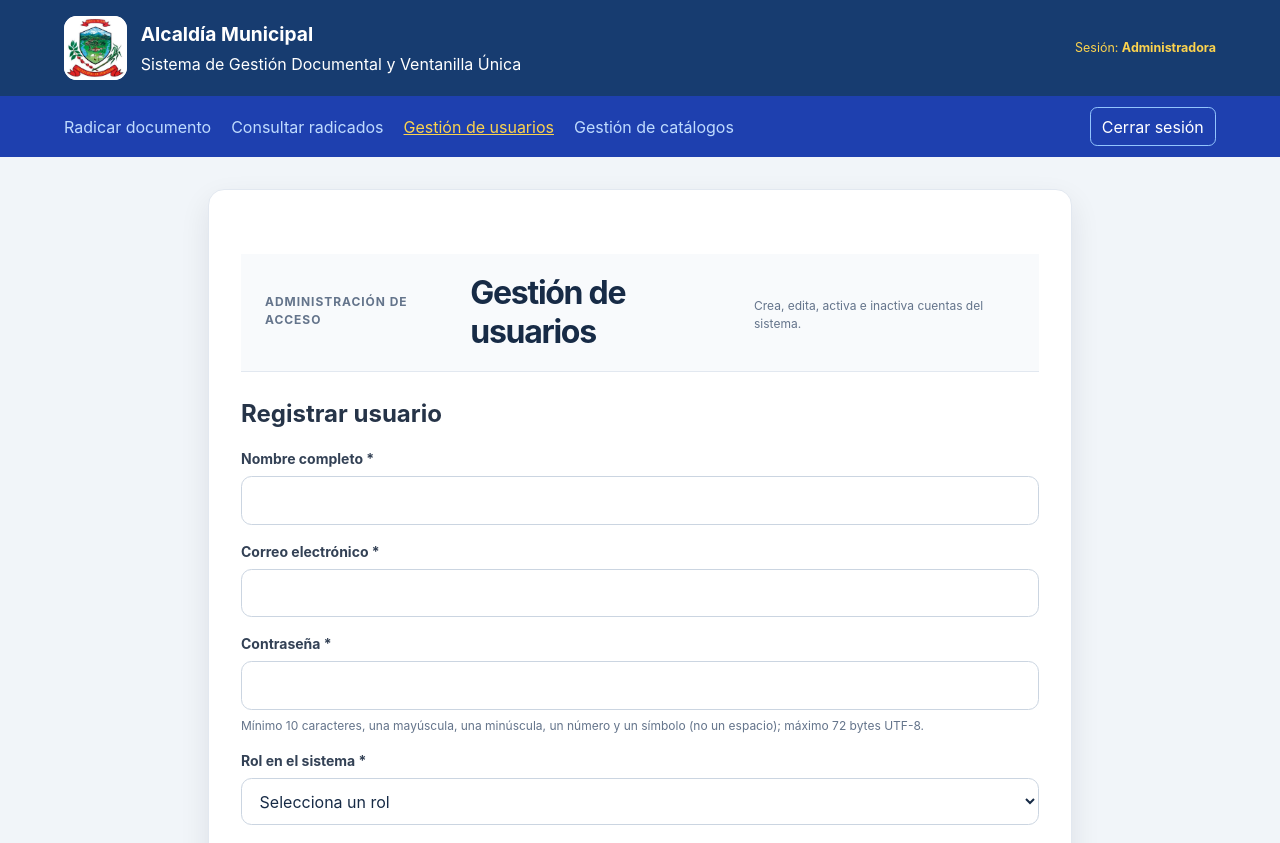
gestión de usuarios React › rechaza la contraseña inválida abcdefghij1! antes de enviar
This screenshot has width=1280, height=843.
Type "abcdefghij1!" into the password field labelled "Contraseña *" at (640, 686), box [241,661,1039,710]
(page scrolled)
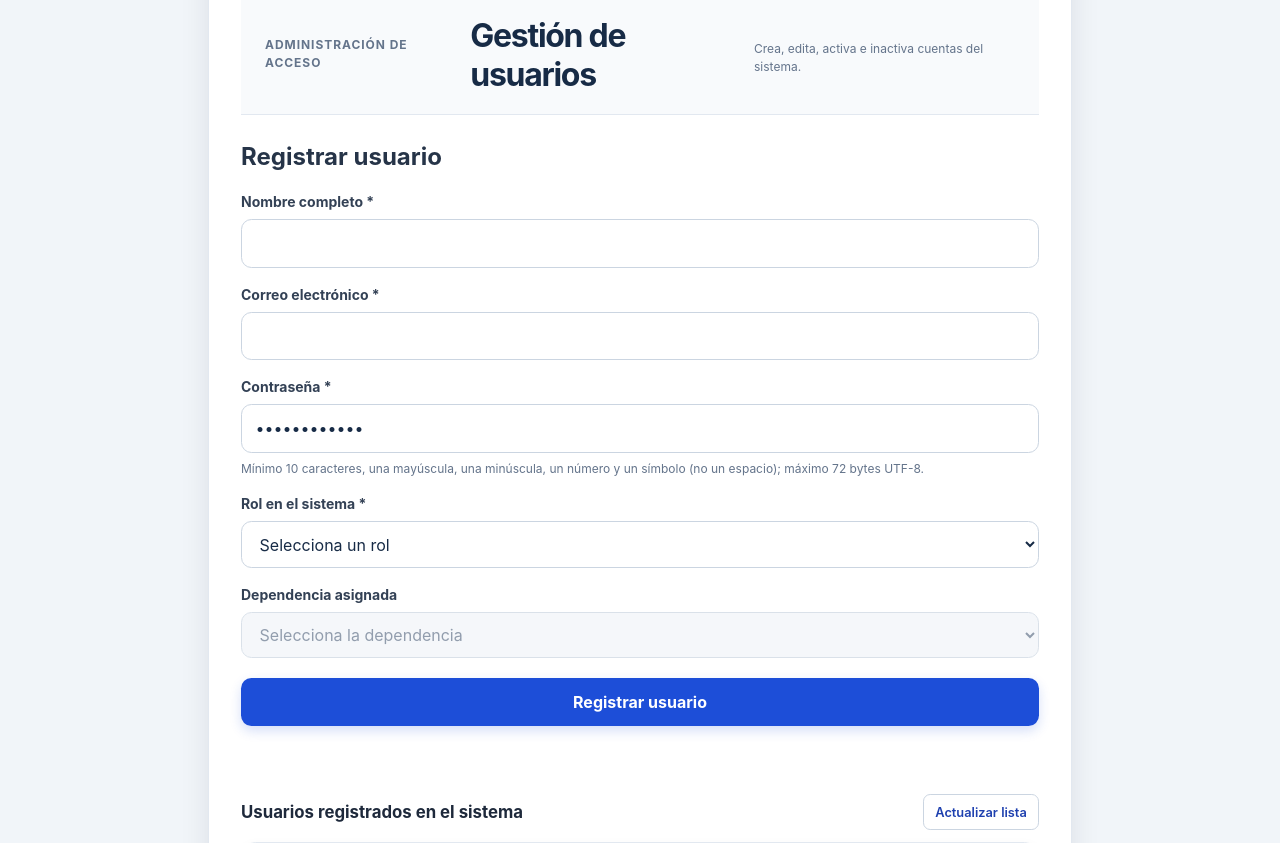
Submit the form labelled "Contraseña *", box [241,139,1039,762]
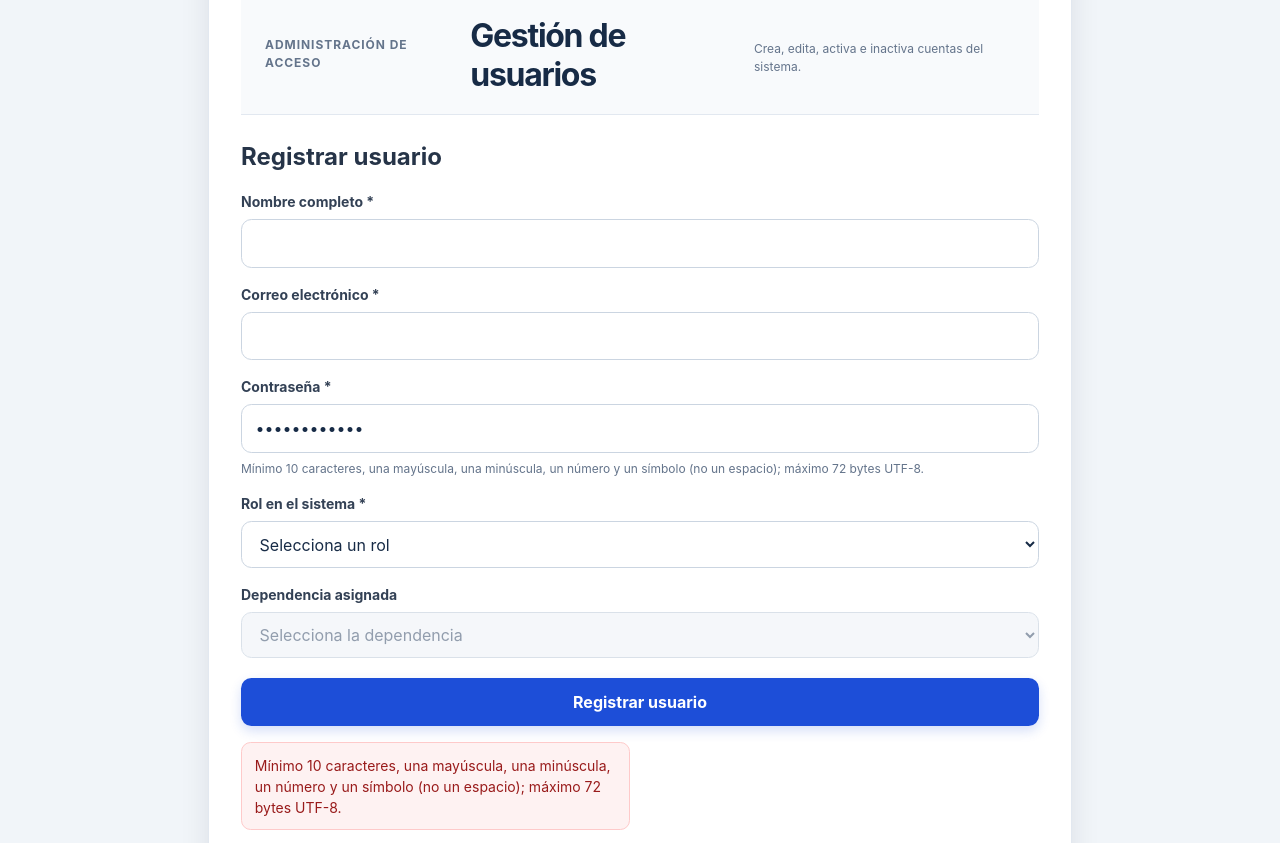
Check: the message shows "Mínimo 10 caracteres, una mayúscula, una minúscula, un número y un símbolo (no un espacio); máximo 72 bytes UTF-8.", box [255,756,611,816]
